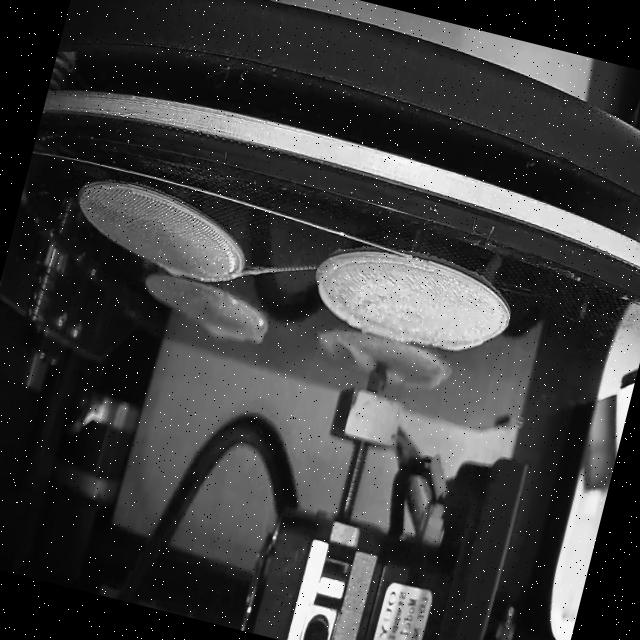over_extrusion: (306, 234, 420, 344), (197, 311, 270, 354), (433, 324, 488, 364), (332, 334, 382, 373), (157, 260, 185, 282), (384, 369, 407, 388)
